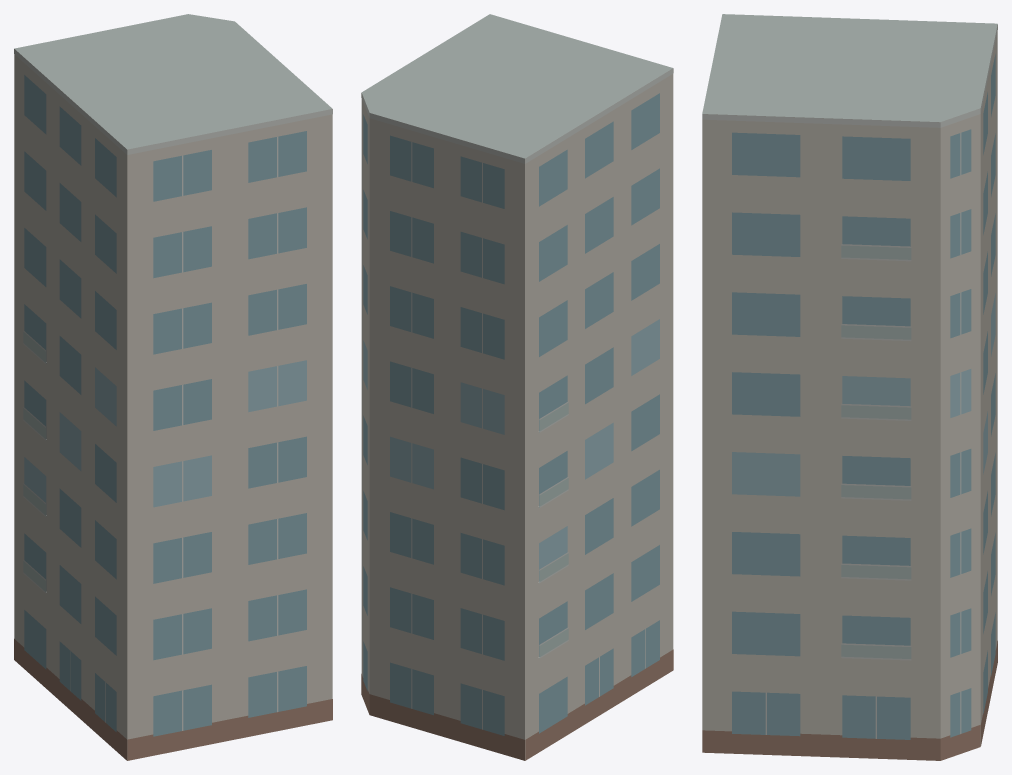
The model's file is survey-upis-32579358.glb.
3 views of the same model, side by side, from view 1: azimuth 30°, elevation 25°; view 2: azimuth 150°, elevation 25°; view 3: azimuth 270°, elevation 25° (orthographic). The views are drawn at different scales.
Visible parts, largest first — view 1: survey-upis-32579358.tmp; view 2: survey-upis-32579358.tmp; view 3: survey-upis-32579358.tmp.
Boxes of the visible parts, box(x1,y1,x2,y2) form: survey-upis-32579358.tmp: box(14, 14, 332, 760); survey-upis-32579358.tmp: box(361, 14, 673, 760); survey-upis-32579358.tmp: box(702, 14, 997, 760).
Bounding box in the file's own units: 9.89 × 27.2 × 11.42.
